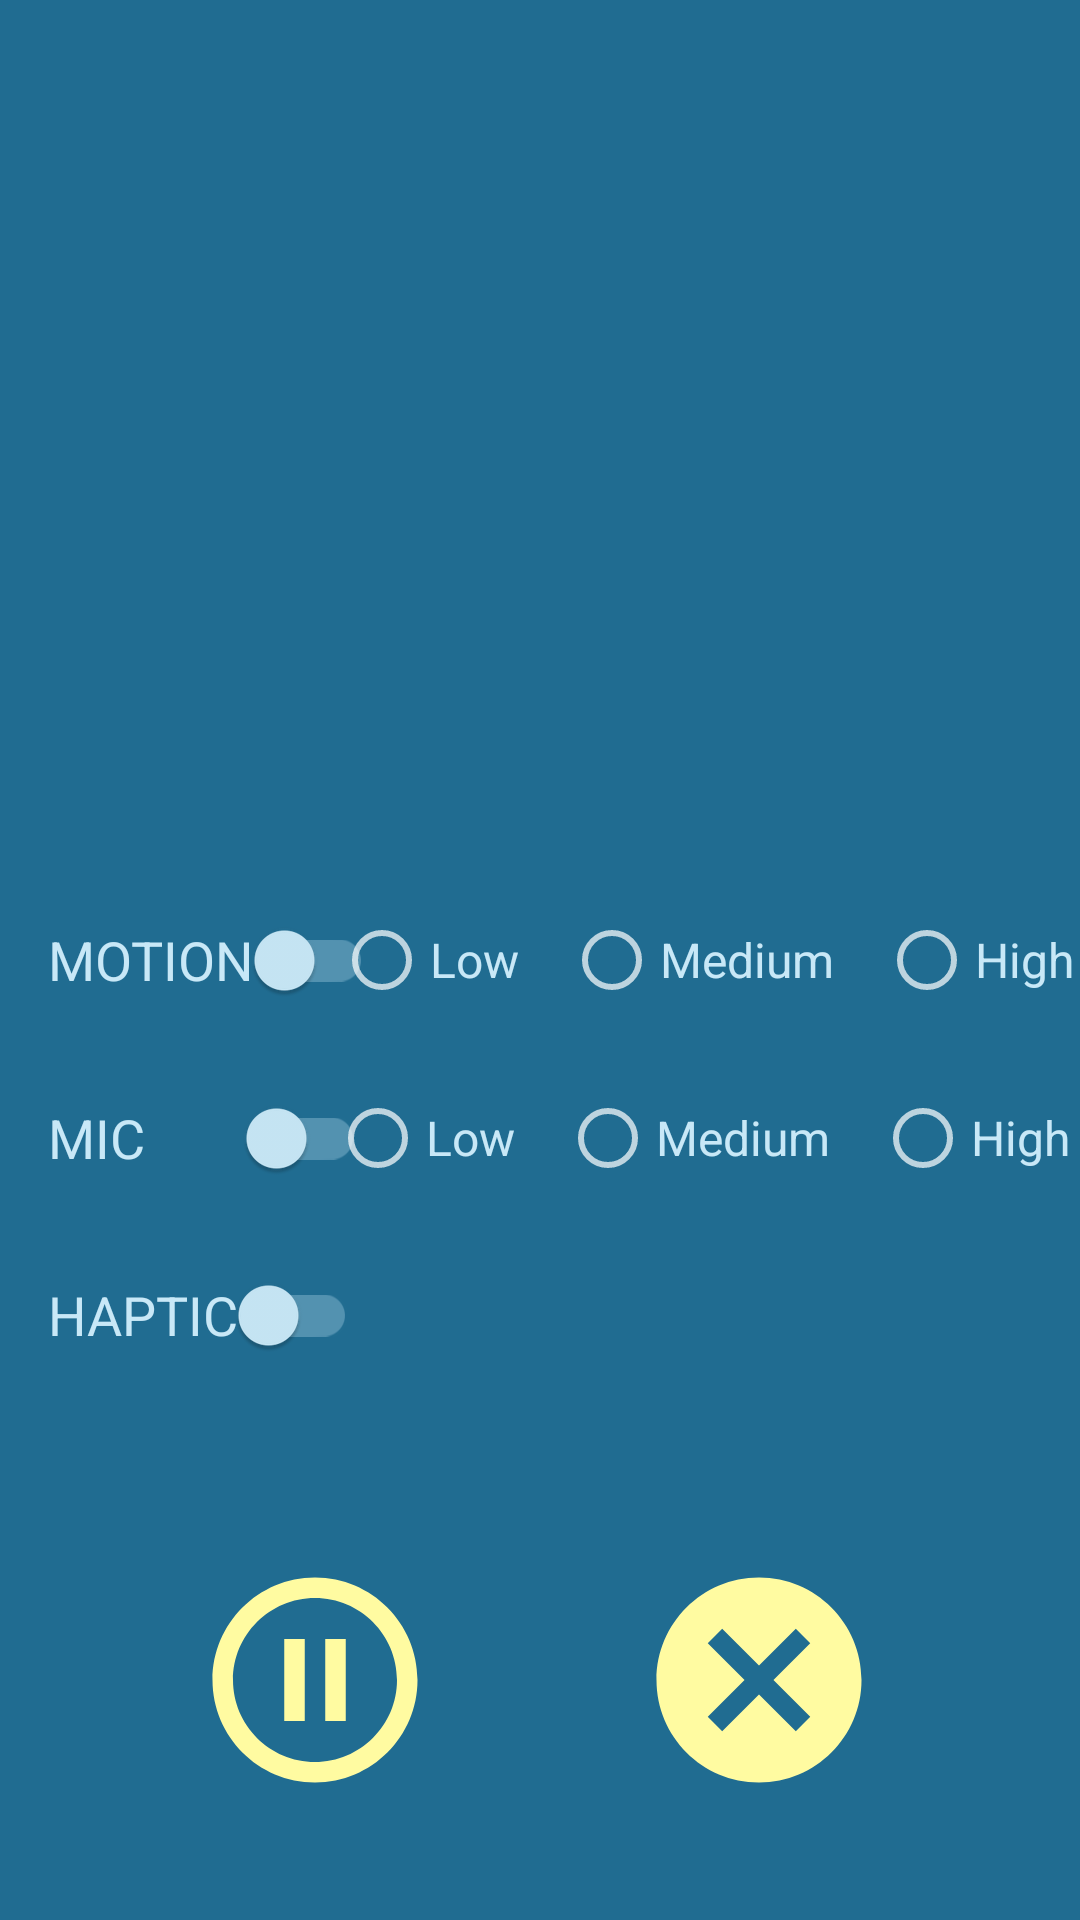

Locate icon controls on the screen. Image size 1080px x 1920px, boxes as [x1, y1, x2, y2].
cancel: [656, 1577, 862, 1783]
pause circle: [212, 1577, 418, 1783]
